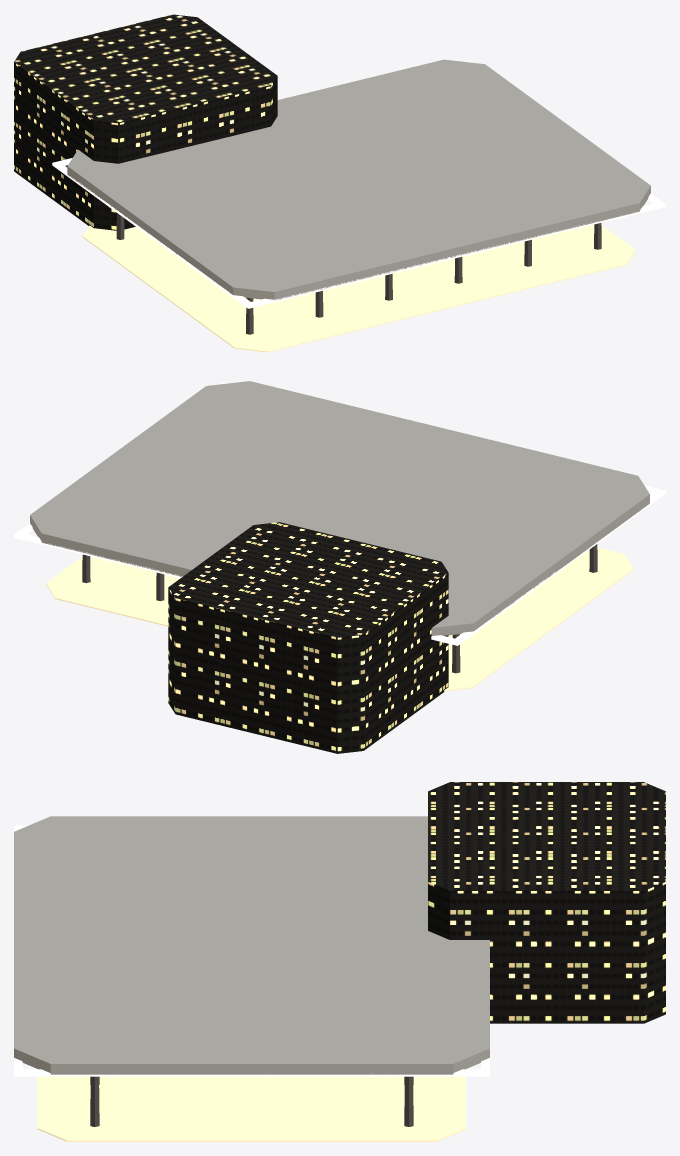
Rendered from woodlands-checkpoint.glb.
The picture shows the model from 3 angles, top to bottom: view 1: azimuth 30°, elevation 25°; view 2: azimuth 150°, elevation 25°; view 3: azimuth 270°, elevation 25°; orthographic projection. The views are drawn at different scales.
Visible parts, largest first — view 1: canopy, hall, apron, canopy-rim, columns; view 2: canopy, hall, apron, canopy-rim, columns; view 3: canopy, hall, apron, canopy-rim, columns.
Part boxes in pixels (x1,y1,x2,y2): canopy: (67,59,650,300); hall: (14,14,277,230); apron: (82,224,635,352); canopy-rim: (52,61,665,308); columns: (116,213,601,334); canopy: (30,381,649,635); hall: (168,522,448,753); apron: (46,547,633,691); canopy-rim: (14,382,665,645); columns: (82,544,597,673); canopy: (14,816,489,1074); hall: (428,782,665,1023); apron: (37,1076,465,1141); canopy-rim: (14,825,489,1076); columns: (90,1076,413,1126).
Size of the model in its own units: 160 by 40 by 178.
Materials: 5 (1 with a texture image).
